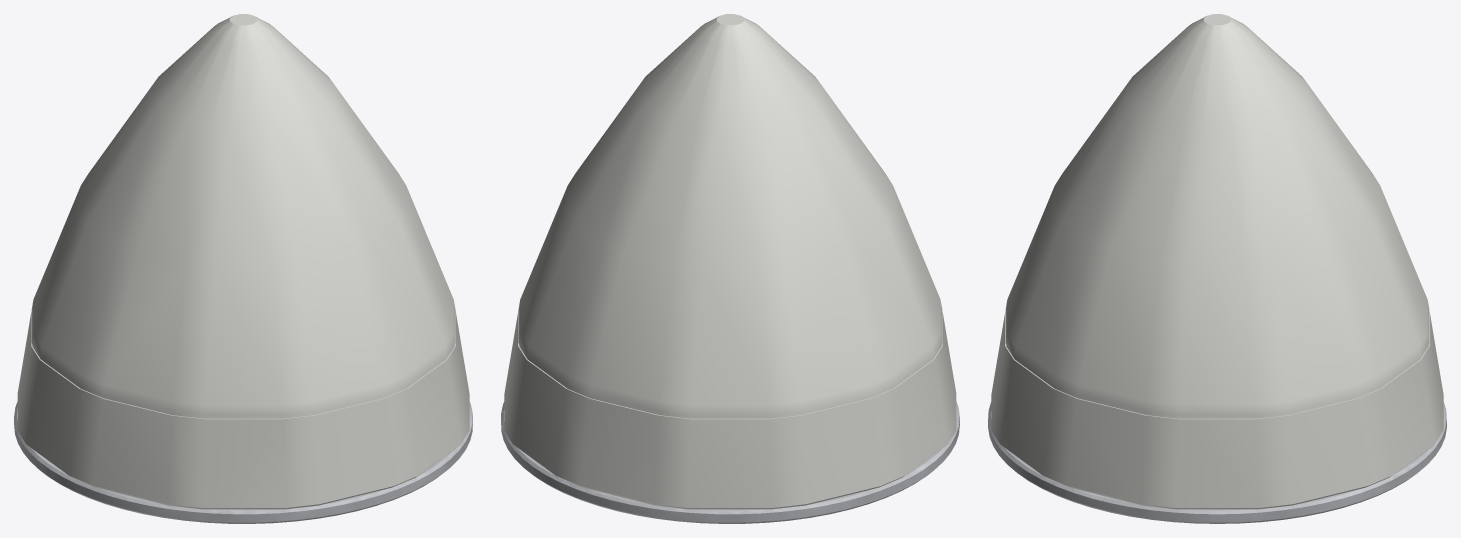
The model's file is ax_struct_13_nose_cone_xl.glb.
3 views of the same model, side by side, from view 1: azimuth 30°, elevation 25°; view 2: azimuth 150°, elevation 25°; view 3: azimuth 270°, elevation 25° (orthographic).
Visible parts, largest first — view 1: nose_shell, base_ring; view 2: nose_shell, base_ring; view 3: nose_shell, base_ring.
Part boxes in pixels (left/top/right/bottom): nose_shell: left=17, top=14, right=469, bottom=509; base_ring: left=14, top=401, right=472, bottom=523; nose_shell: left=504, top=14, right=956, bottom=509; base_ring: left=501, top=401, right=959, bottom=523; nose_shell: left=991, top=14, right=1443, bottom=509; base_ring: left=988, top=402, right=1446, bottom=523.
Bounding box in the file's own units: 5 × 4.91 × 5.
Materials: 2 (1 with a texture image).
